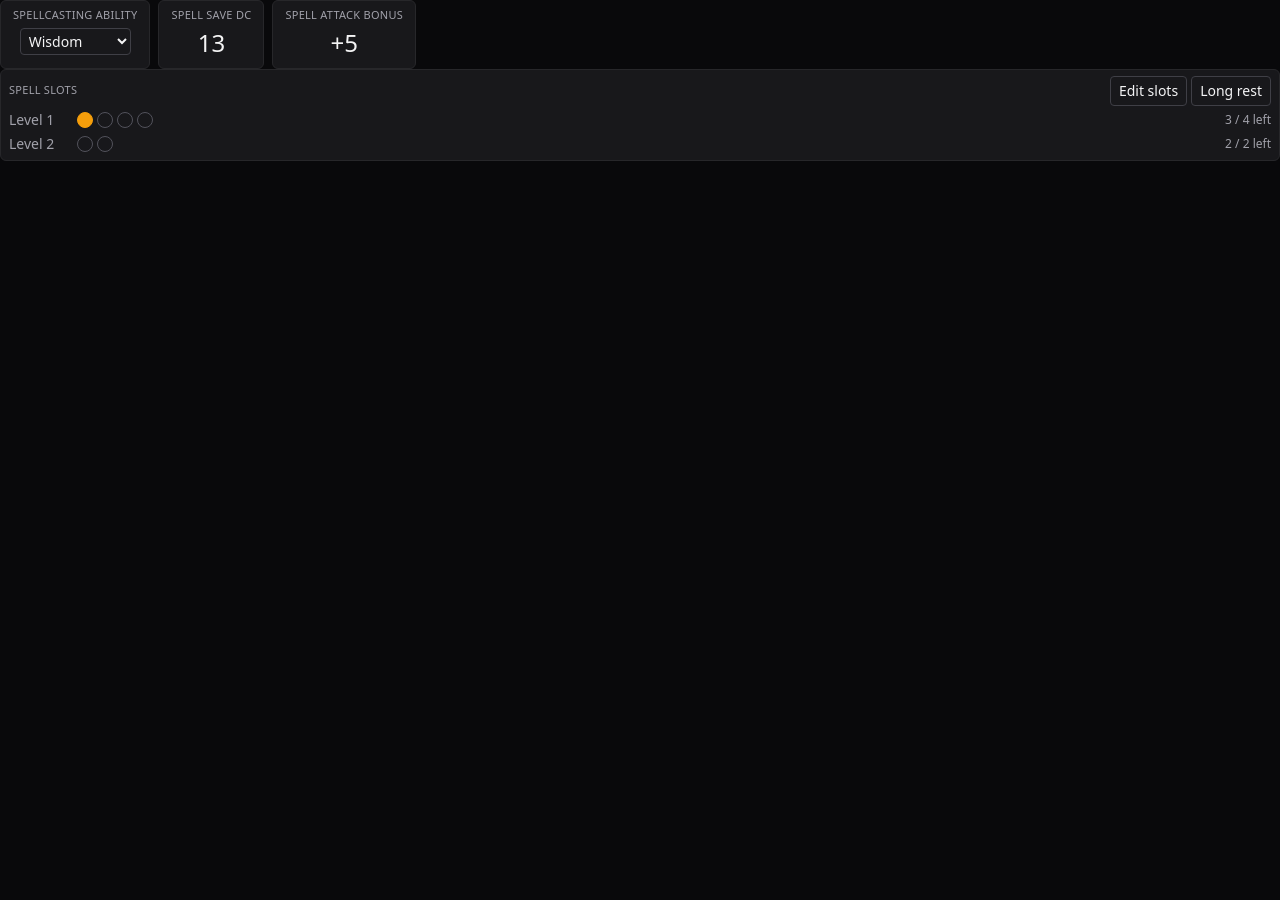
SlotTracker › long rest resets used slots after confirmation
Click the button "Long rest" at (1231, 90), box [1191,76,1271,106]
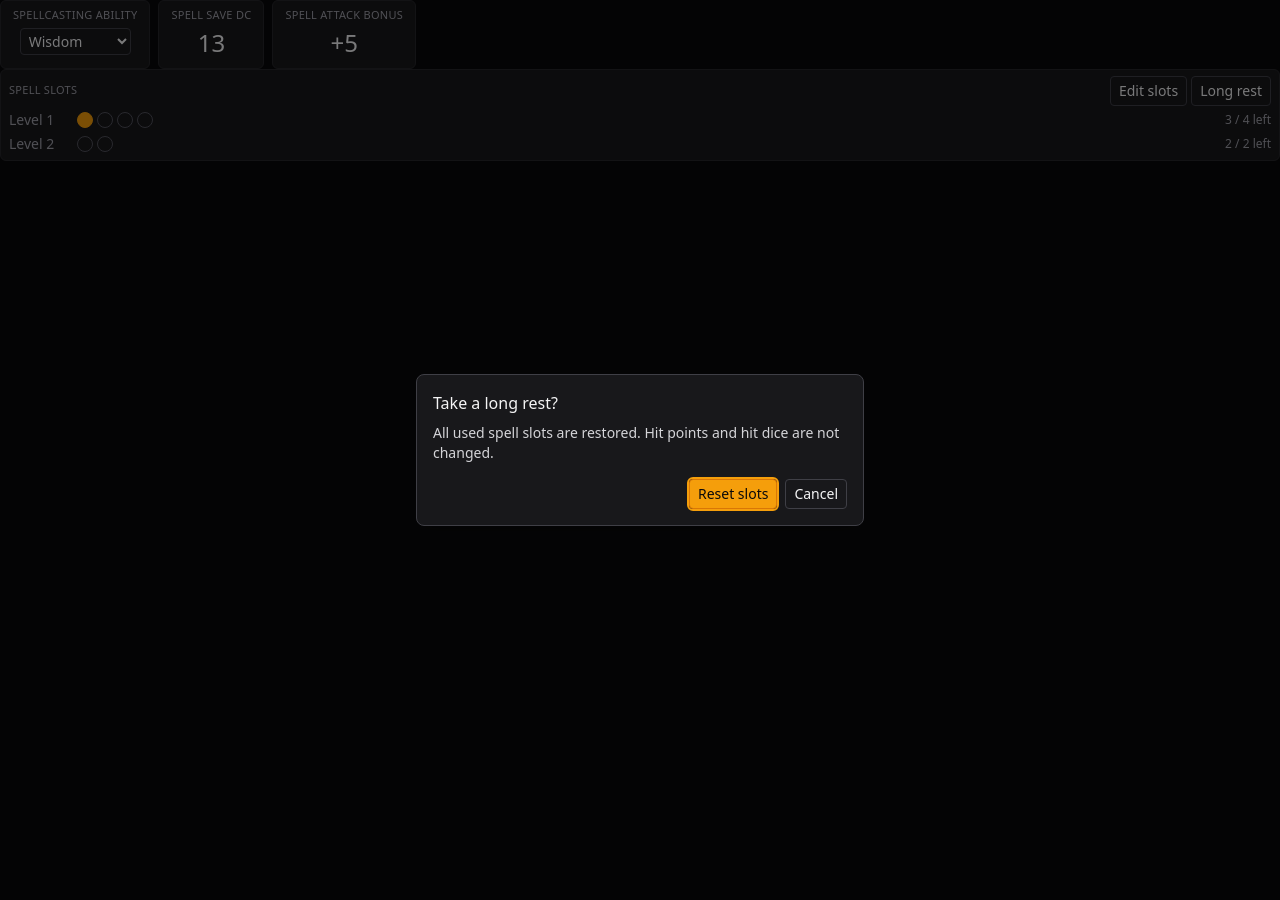
Click the button "Reset slots" at (733, 494), box [689,479,778,509]
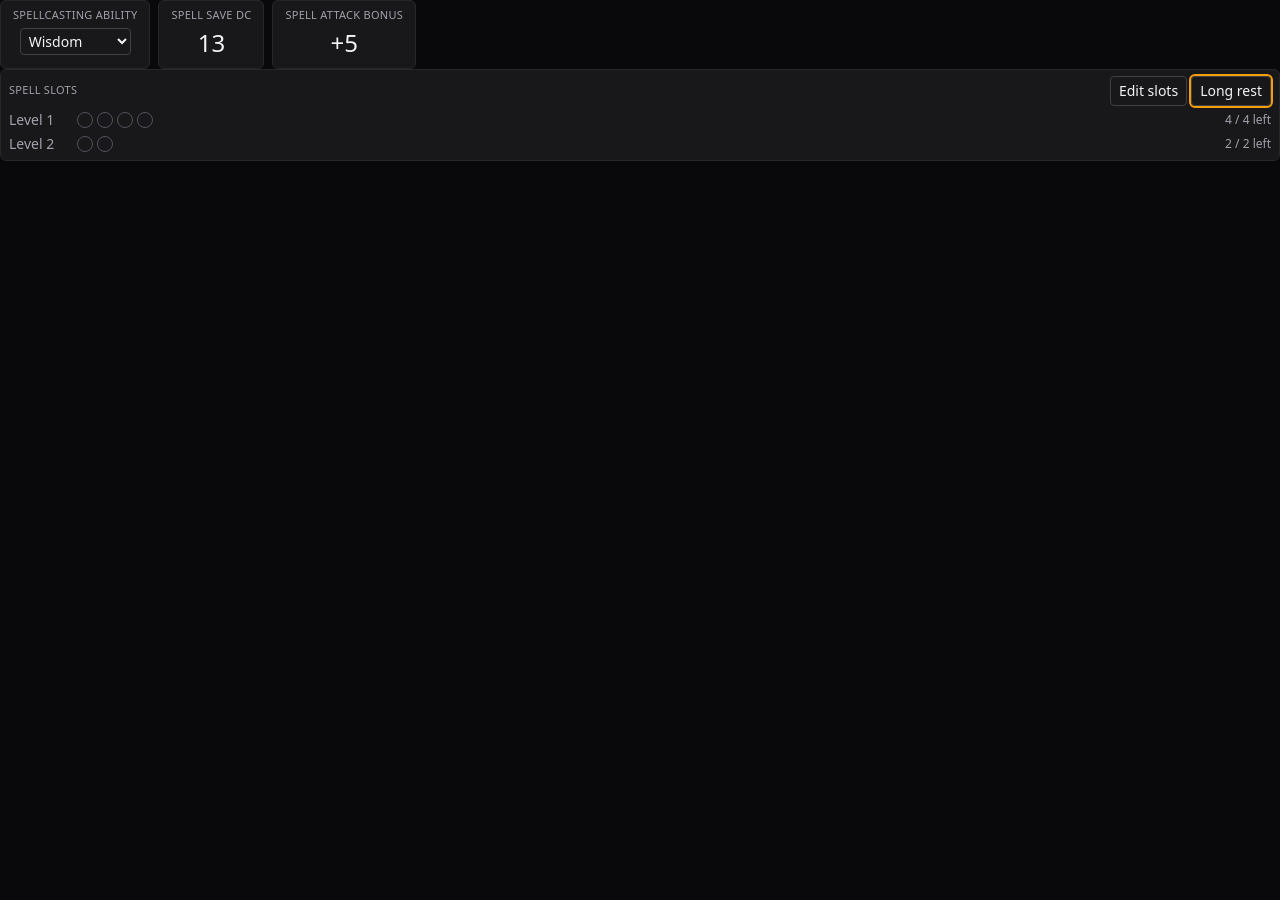
Expected: no the button "Reset slots" are shown
